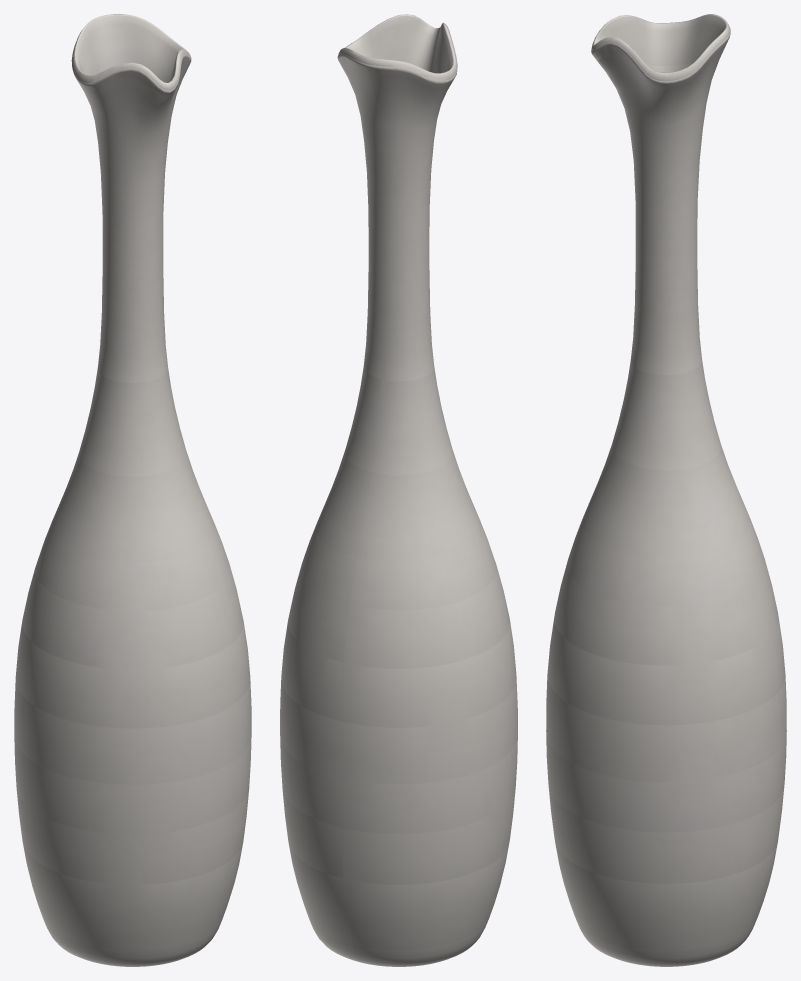
File: vase.glb
The picture shows the model from 3 angles, left to right: view 1: azimuth 30°, elevation 25°; view 2: azimuth 150°, elevation 25°; view 3: azimuth 270°, elevation 25°; orthographic projection.
Parts seen in each view (by area): view 1: ceramic_vase_01.001; view 2: ceramic_vase_01.001; view 3: ceramic_vase_01.001.
Boxes of the visible parts, bbox=[...] form: ceramic_vase_01.001: bbox=[14, 14, 251, 966]; ceramic_vase_01.001: bbox=[280, 14, 517, 966]; ceramic_vase_01.001: bbox=[546, 14, 786, 966].
Size of the model in its own units: 4.72 by 19.7 by 4.72.
1 material, 1 textured.
